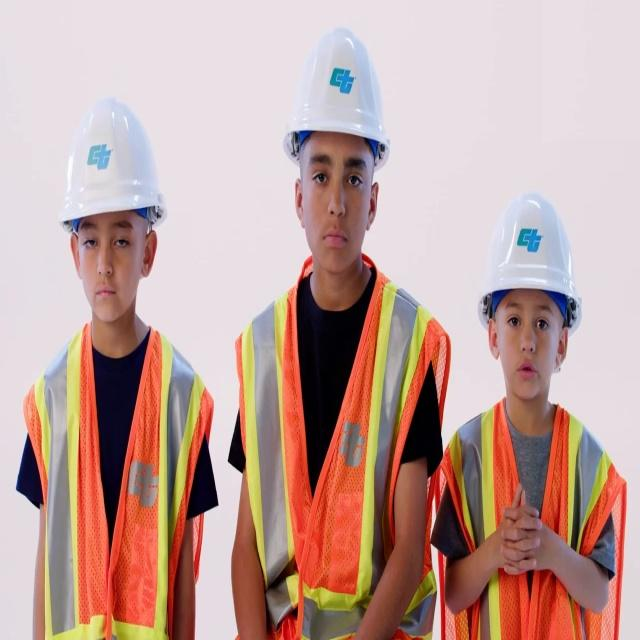helmet: (59, 120, 170, 436), (282, 39, 390, 357), (477, 254, 579, 530)
vest: (237, 344, 448, 640), (13, 424, 220, 640), (444, 535, 640, 640)
